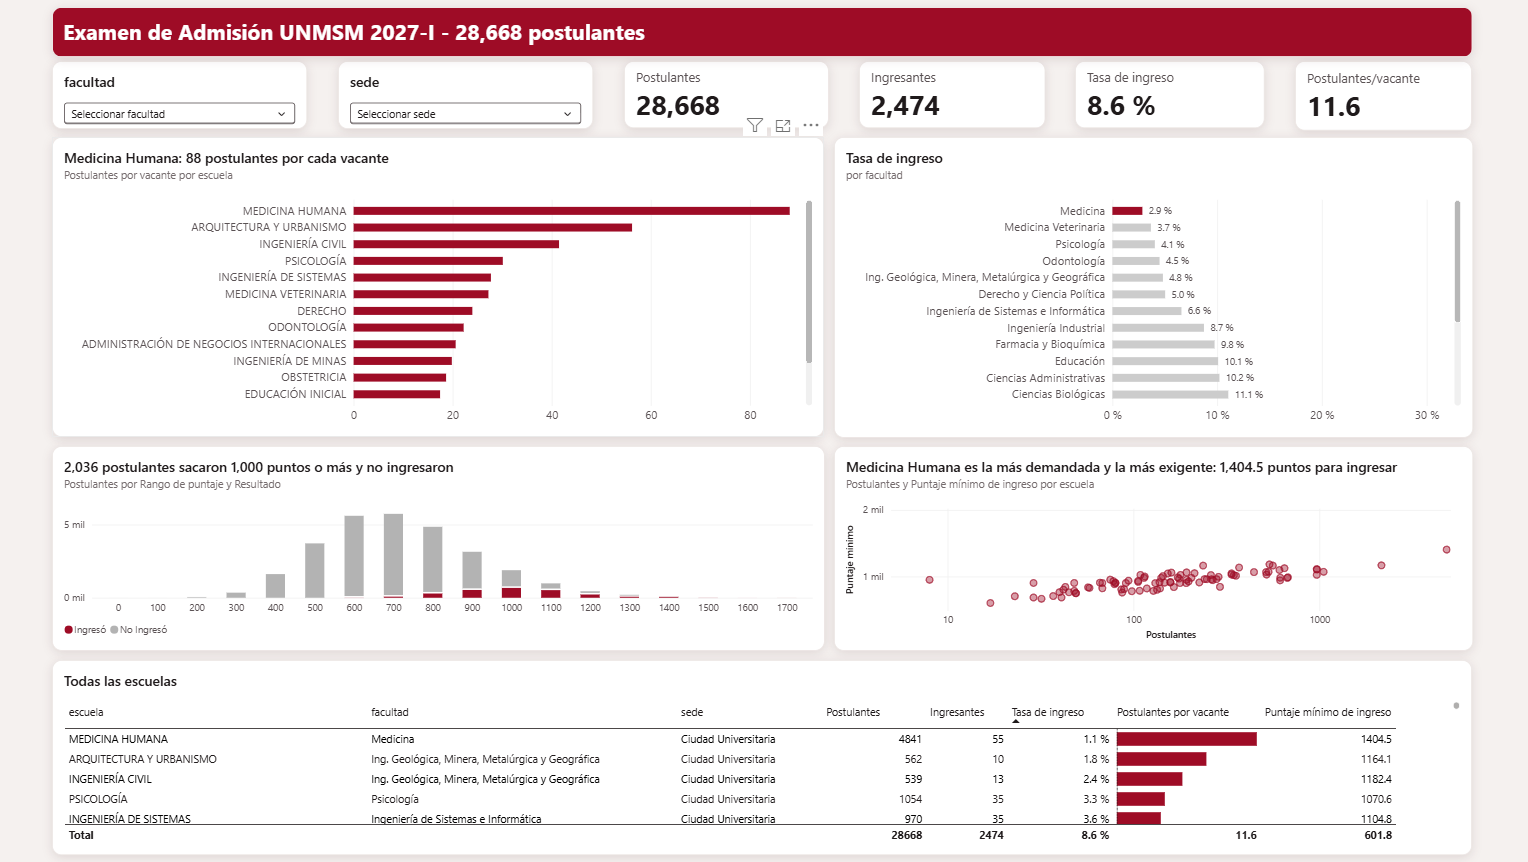

Layout of this report page (visuals, bound fields, positions):
{"tool":"powerbi","page":{"name":"Admisión 2027-I","canvas":[1920,1080],"ordinal":0},"visuals":[{"type":"listSlicer","fields":{"Values":["escuelas.facultad"]},"box":[69.8,74.1,318.7,96.1],"z":0},{"type":"listSlicer","fields":{"Values":["escuelas.sede"]},"box":[439.4,74.1,318.7,96.1],"z":1000},{"type":"cardVisual","fields":{"Data":["detalle.Postulantes"]},"box":[808.9,73.5,220,97.5],"z":2000},{"type":"cardVisual","fields":{"Data":["detalle.Ingresantes tx"]},"box":[1079.7,73.5,221.3,97.5],"z":3000},{"type":"cardVisual","fields":{"Data":["detalle.Tasa de ingreso"]},"box":[1351.8,73.5,221.3,97.5],"z":4000},{"type":"cardVisual","fields":{"Data":["detalle.Postulantes por vacante"]},"box":[1624,73.3,221.1,97.8],"z":5000},{"type":"clusteredBarChart","title":"Medicina Humana: 88 postulantes por cada vacante","fields":{"Category":["escuelas.escuela"],"Y":["detalle.Postulantes por vacante"]},"box":[69.8,173.9,965.4,375.4],"z":6000},{"type":"columnChart","title":"2,036 postulantes sacaron 1,000 puntos o más y no ingresaron","fields":{"Category":["detalle.Rango de puntaje"],"Series":["detalle.Resultado"],"Y":["detalle.Postulantes"]},"box":[69.8,549.2,965.4,277.9],"z":7000},{"type":"scatterChart","title":"Medicina Humana es la más demandada y la más exigente: 1,404.5 puntos para ingresar","fields":{"Category":["escuelas.escuela"],"X":["detalle.Postulantes"],"Y":["detalle.Puntaje mínimo de ingreso"]},"box":[1058.7,549.4,787,277.7],"z":8000},{"type":"clusteredBarChart","fields":{"Category":["escuelas.facultad"],"Y":["detalle.Tasa de ingreso"]},"box":[1058.7,173.7,787,375.7],"z":9000},{"type":"tableEx","title":"Todas las escuelas","fields":{"Values":["escuelas.escuela","detalle.facultad","escuelas.sede","detalle.Postulantes","detalle.Ingresantes","detalle.Tasa de ingreso","detalle.Postulantes por vacante","detalle.Puntaje mínimo de ingreso"]},"box":[69.8,827.1,1775.4,243.7],"z":10000},{"type":"textbox","box":[69.8,13.4,1774.5,59.4],"z":11000}]}

Visuals, with their boxes in screenshot pixels (x1, y1, x2, y2), scaled from the page's 1920x1080 canvas onto the 1528x862 screenshot:
listSlicer - escuelas.facultad: detection(56, 59, 309, 136)
listSlicer - escuelas.sede: detection(350, 59, 603, 136)
cardVisual - detalle.Postulantes: detection(644, 59, 819, 136)
cardVisual - detalle.Ingresantes tx: detection(859, 59, 1035, 136)
cardVisual - detalle.Tasa de ingreso: detection(1076, 59, 1252, 136)
cardVisual - detalle.Postulantes por vacante: detection(1292, 59, 1468, 137)
"Medicina Humana: 88 postulantes por cada vacante" clusteredBarChart: detection(56, 139, 824, 438)
"2,036 postulantes sacaron 1,000 puntos o más y no ingresaron" columnChart: detection(56, 438, 824, 660)
"Medicina Humana es la más demandada y la más exigente: 1,404.5 puntos para ingresar" scatterChart: detection(843, 439, 1469, 660)
clusteredBarChart - escuelas.facultad x detalle.Tasa de ingreso: detection(843, 139, 1469, 439)
"Todas las escuelas" tableEx: detection(56, 660, 1468, 855)
textbox: detection(56, 11, 1468, 58)
